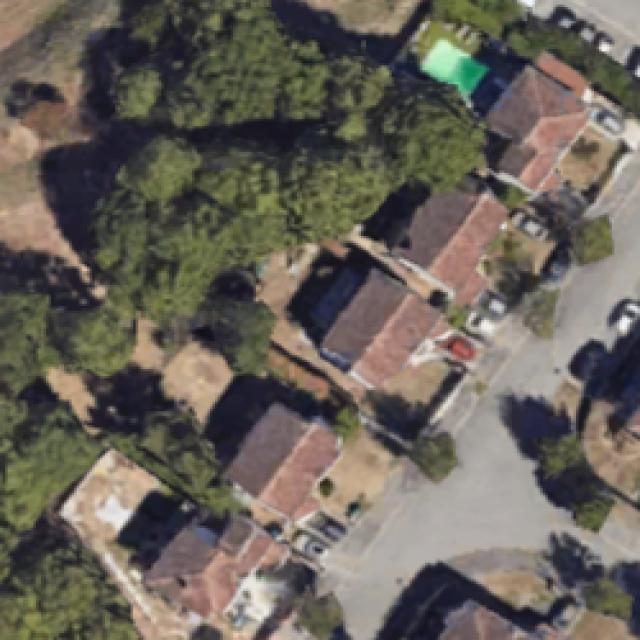maison: (132, 486, 284, 634), (382, 157, 523, 302), (312, 265, 446, 401), (463, 61, 594, 196), (216, 397, 341, 527)
